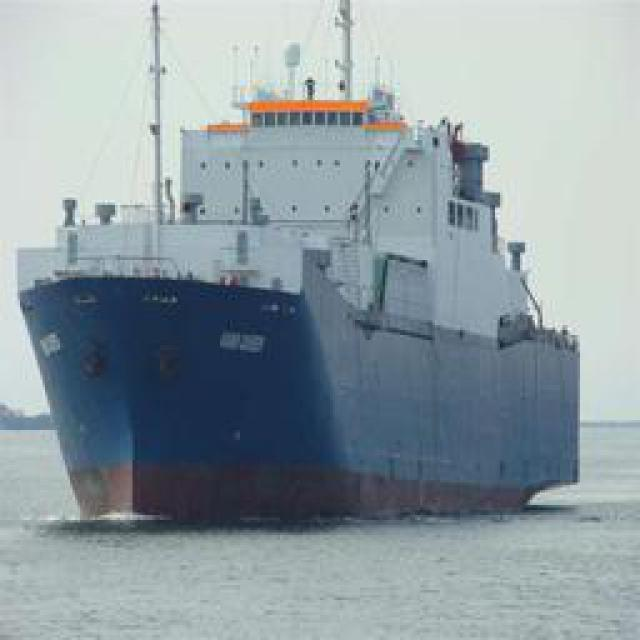Ship: (20, 1, 583, 529)
